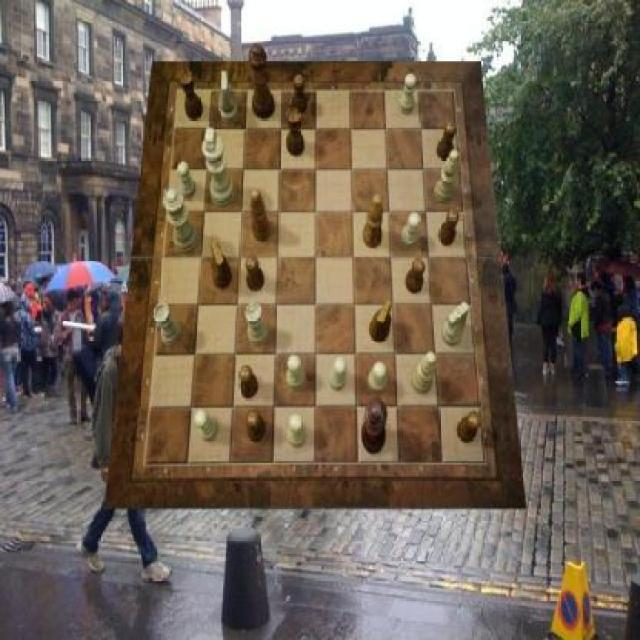bishop: (362, 194, 382, 248), (251, 189, 271, 242)
black-bishop: (363, 397, 389, 455)
black-king: (210, 243, 232, 291), (370, 298, 392, 341)
black-knight: (438, 209, 459, 247), (457, 411, 481, 443), (437, 122, 457, 160), (240, 364, 260, 398), (406, 259, 426, 293), (247, 255, 266, 290), (246, 411, 266, 443), (294, 74, 309, 114)
black-pawn: (248, 45, 274, 119)
black-queen: (180, 69, 203, 120), (288, 108, 305, 157)
black-rook: (434, 150, 458, 204), (411, 351, 437, 393)
white-bishop: (203, 128, 237, 208)
white-king: (442, 301, 469, 347), (218, 72, 238, 125)
white-knight: (196, 409, 220, 443), (400, 212, 421, 250), (286, 356, 306, 392), (177, 162, 196, 199), (399, 74, 416, 115), (286, 414, 306, 448), (329, 357, 347, 391), (368, 362, 387, 392)
white-pawn: (163, 188, 199, 253)
white-queen: (154, 303, 181, 347), (244, 303, 268, 345)
